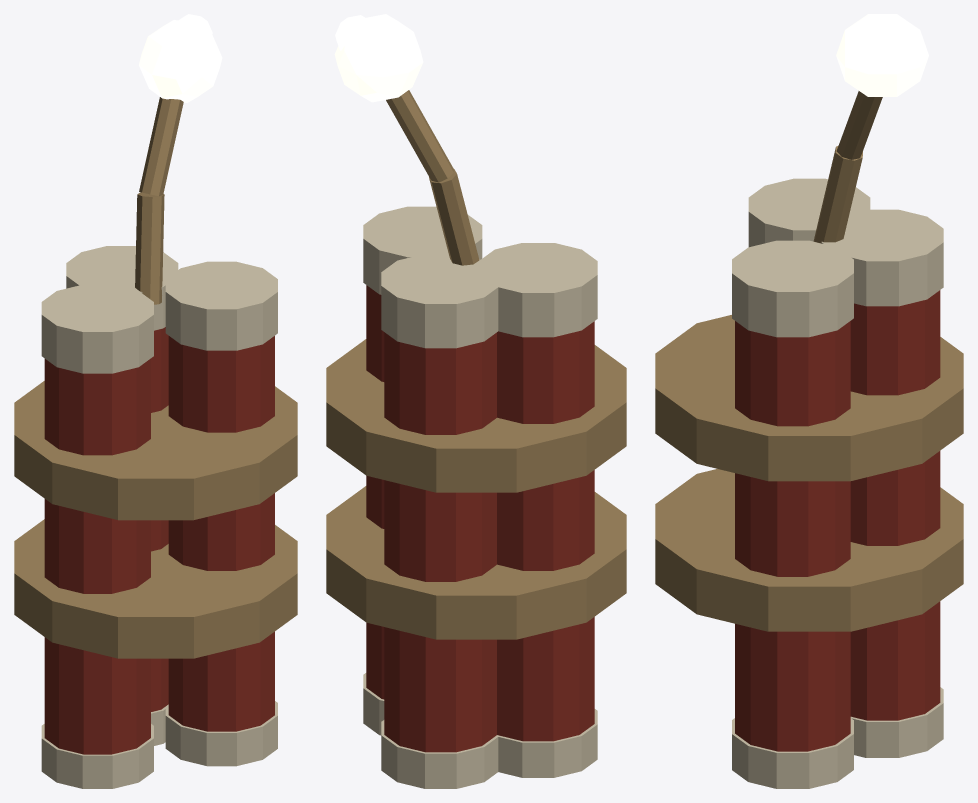
Rendered from Bomb.glb.
3 renders of one model, left to right at view 1: azimuth 30°, elevation 25°; view 2: azimuth 150°, elevation 25°; view 3: azimuth 270°, elevation 25°, orthographic. The views are drawn at different scales.
Visible parts, largest first — view 1: Body, Glow; view 2: Body, Glow; view 3: Body, Glow.
Part boxes in pixels (<box>): Body: <box>14,97,297,788</box>; Glow: <box>139,14,222,102</box>; Body: <box>326,90,626,788</box>; Glow: <box>334,14,423,102</box>; Body: <box>655,91,963,788</box>; Glow: <box>836,14,928,96</box>.
Size of the model in its own units: 0.9273 by 2.49 by 0.9273.
